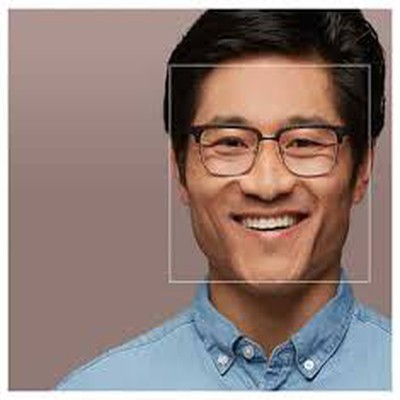eywear: (175, 113, 362, 187)
